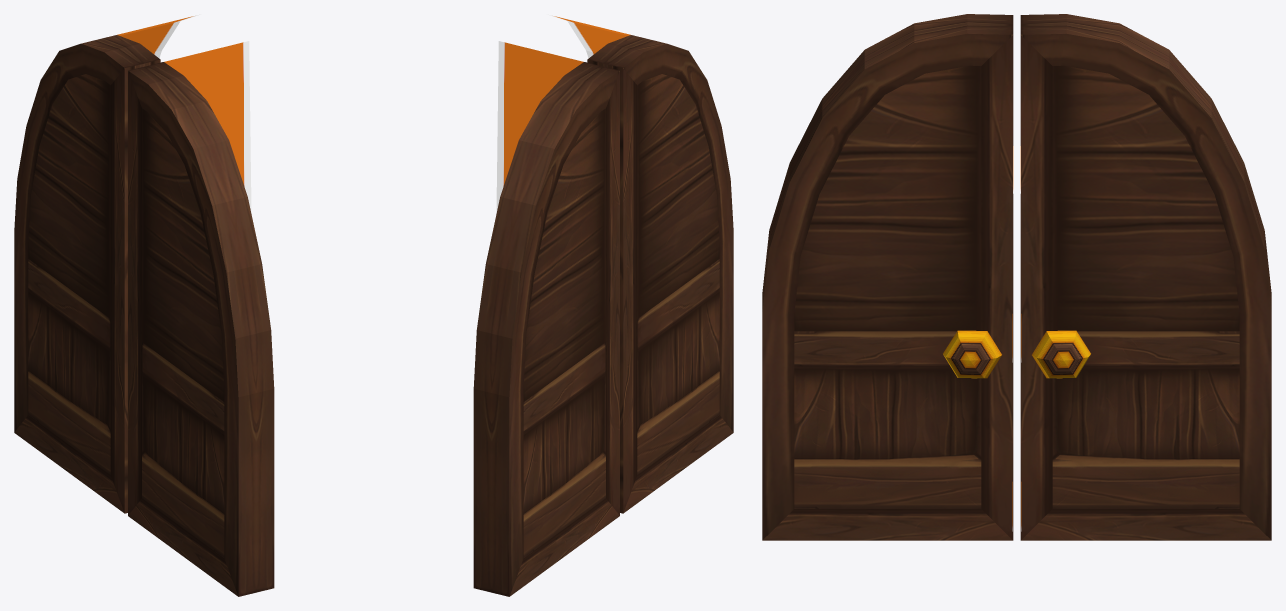
File: upper_door.glb
3 views of the same model, side by side, from view 1: azimuth 30°, elevation 25°; view 2: azimuth 150°, elevation 25°; view 3: azimuth 270°, elevation 25° (orthographic). The views are drawn at different scales.
Parts seen in each view (by area): view 1: doors_upstairs, door_lights; view 2: doors_upstairs, door_lights; view 3: doors_upstairs.
Boxes of the visible parts, x1,y1,x2,y2 form: doors_upstairs: (14,35,274,596); door_lights: (117,14,251,213); doors_upstairs: (473,35,733,596); door_lights: (496,14,630,213); doors_upstairs: (762,14,1271,540).
Size of what is drawn, in the model's own units: 1.35 by 4.58 by 4.12.
Materials: 2 (2 with a texture image).
